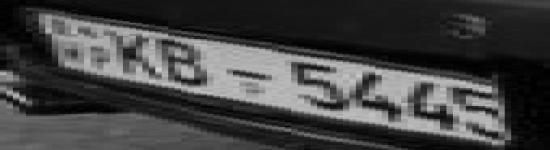-: (219, 66, 277, 84)
4: (348, 67, 407, 123), (404, 79, 458, 130)
5: (284, 60, 354, 113), (451, 87, 501, 142)
B: (157, 36, 211, 88)
K: (113, 32, 158, 79)
P: (89, 44, 111, 71)
W: (54, 41, 87, 66)
